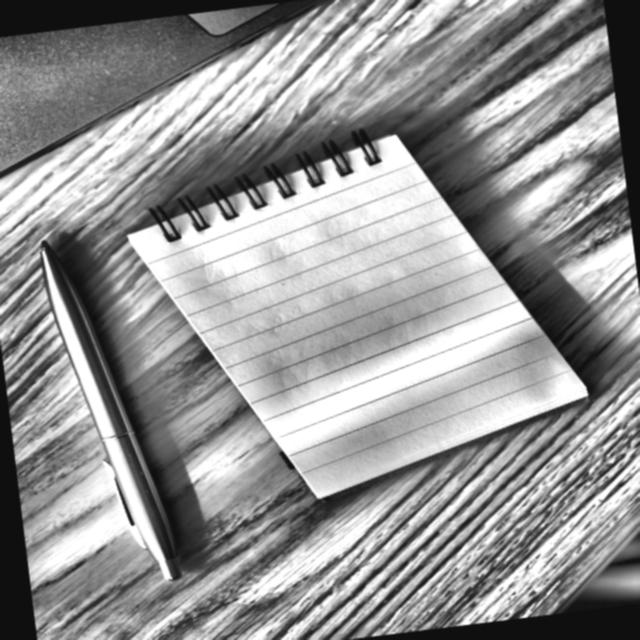Notebook: (114, 105, 609, 523)
Pen: (27, 220, 206, 598)
